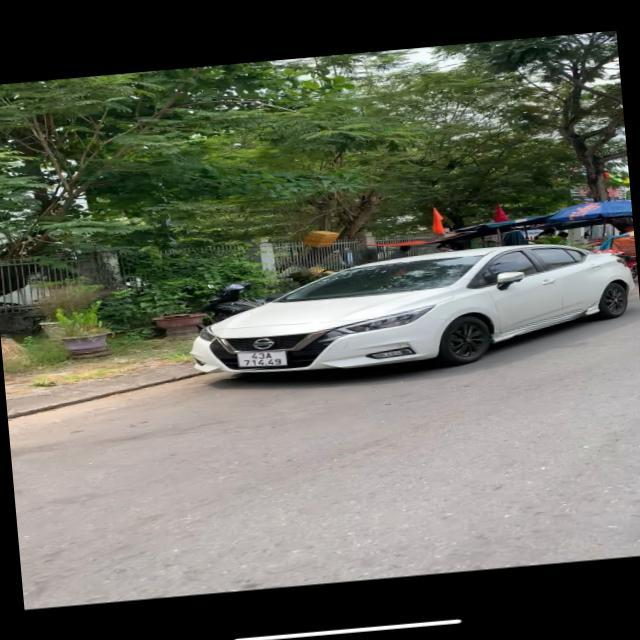car: (205, 234, 629, 386)
plate: (234, 346, 291, 375)
